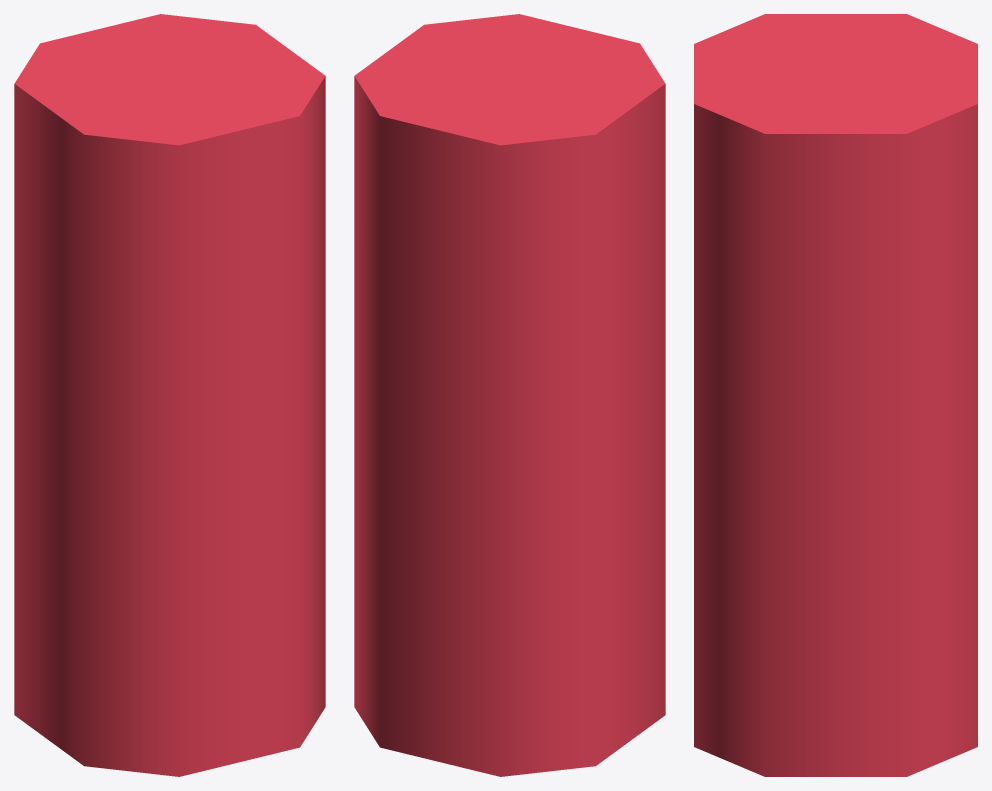
The model's file is support.fbx.
The picture shows the model from 3 angles, left to right: view 1: azimuth 30°, elevation 25°; view 2: azimuth 150°, elevation 25°; view 3: azimuth 270°, elevation 25°; orthographic projection.
Visible parts, largest first — view 1: support; view 2: support; view 3: support.
Part boxes in pixels (x1=…): support: x1=14, y1=14, x2=325, y2=776; support: x1=354, y1=14, x2=665, y2=776; support: x1=694, y1=14, x2=977, y2=776.
Bounding box in the file's own units: 4 × 10 × 4.
